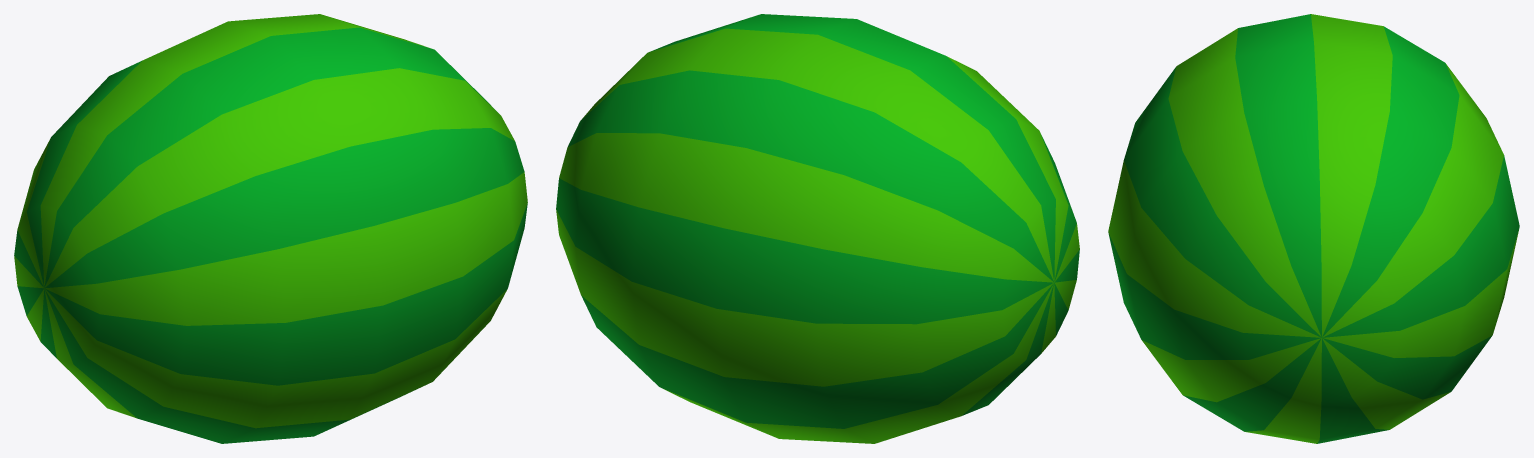
File: Farm_Crop_Watermelon_01.fbx
3 views of the same model, side by side, from view 1: azimuth 30°, elevation 25°; view 2: azimuth 150°, elevation 25°; view 3: azimuth 270°, elevation 25° (orthographic). The views are drawn at different scales.
Parts seen in each view (by area): view 1: Farm_Crop_Watermelon_01; view 2: Farm_Crop_Watermelon_01; view 3: Farm_Crop_Watermelon_01.
Boxes of the visible parts, left/top/right/bottom form: Farm_Crop_Watermelon_01: left=14, top=14, right=527, bottom=443; Farm_Crop_Watermelon_01: left=556, top=14, right=1079, bottom=443; Farm_Crop_Watermelon_01: left=1108, top=14, right=1519, bottom=443.
Bounding box in the file's own units: 54.56 × 43.6 × 43.58.
